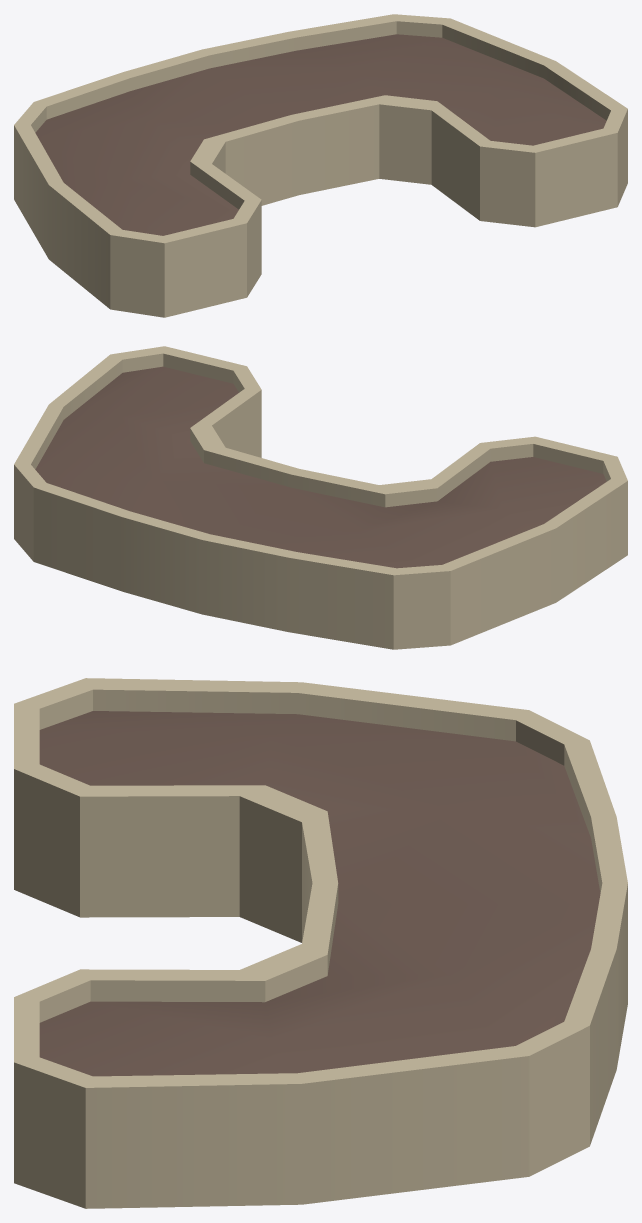
File: GardenBed-Prototype.fbx
3 renders of one model, top to bottom at view 1: azimuth 30°, elevation 25°; view 2: azimuth 150°, elevation 25°; view 3: azimuth 270°, elevation 25°, orthographic. The views are drawn at different scales.
Visible parts, largest first — view 1: GardenBed_prototype; view 2: GardenBed_prototype; view 3: GardenBed_prototype.
Part boxes in pixels (x1,y1,x2,y2): GardenBed_prototype: (14, 14, 627, 317); GardenBed_prototype: (14, 346, 627, 649); GardenBed_prototype: (14, 678, 627, 1208).
Bounding box in the file's own units: 707 × 97.16 × 447.
